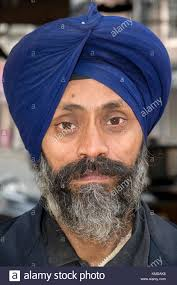helmet: (9, 12, 175, 221)
